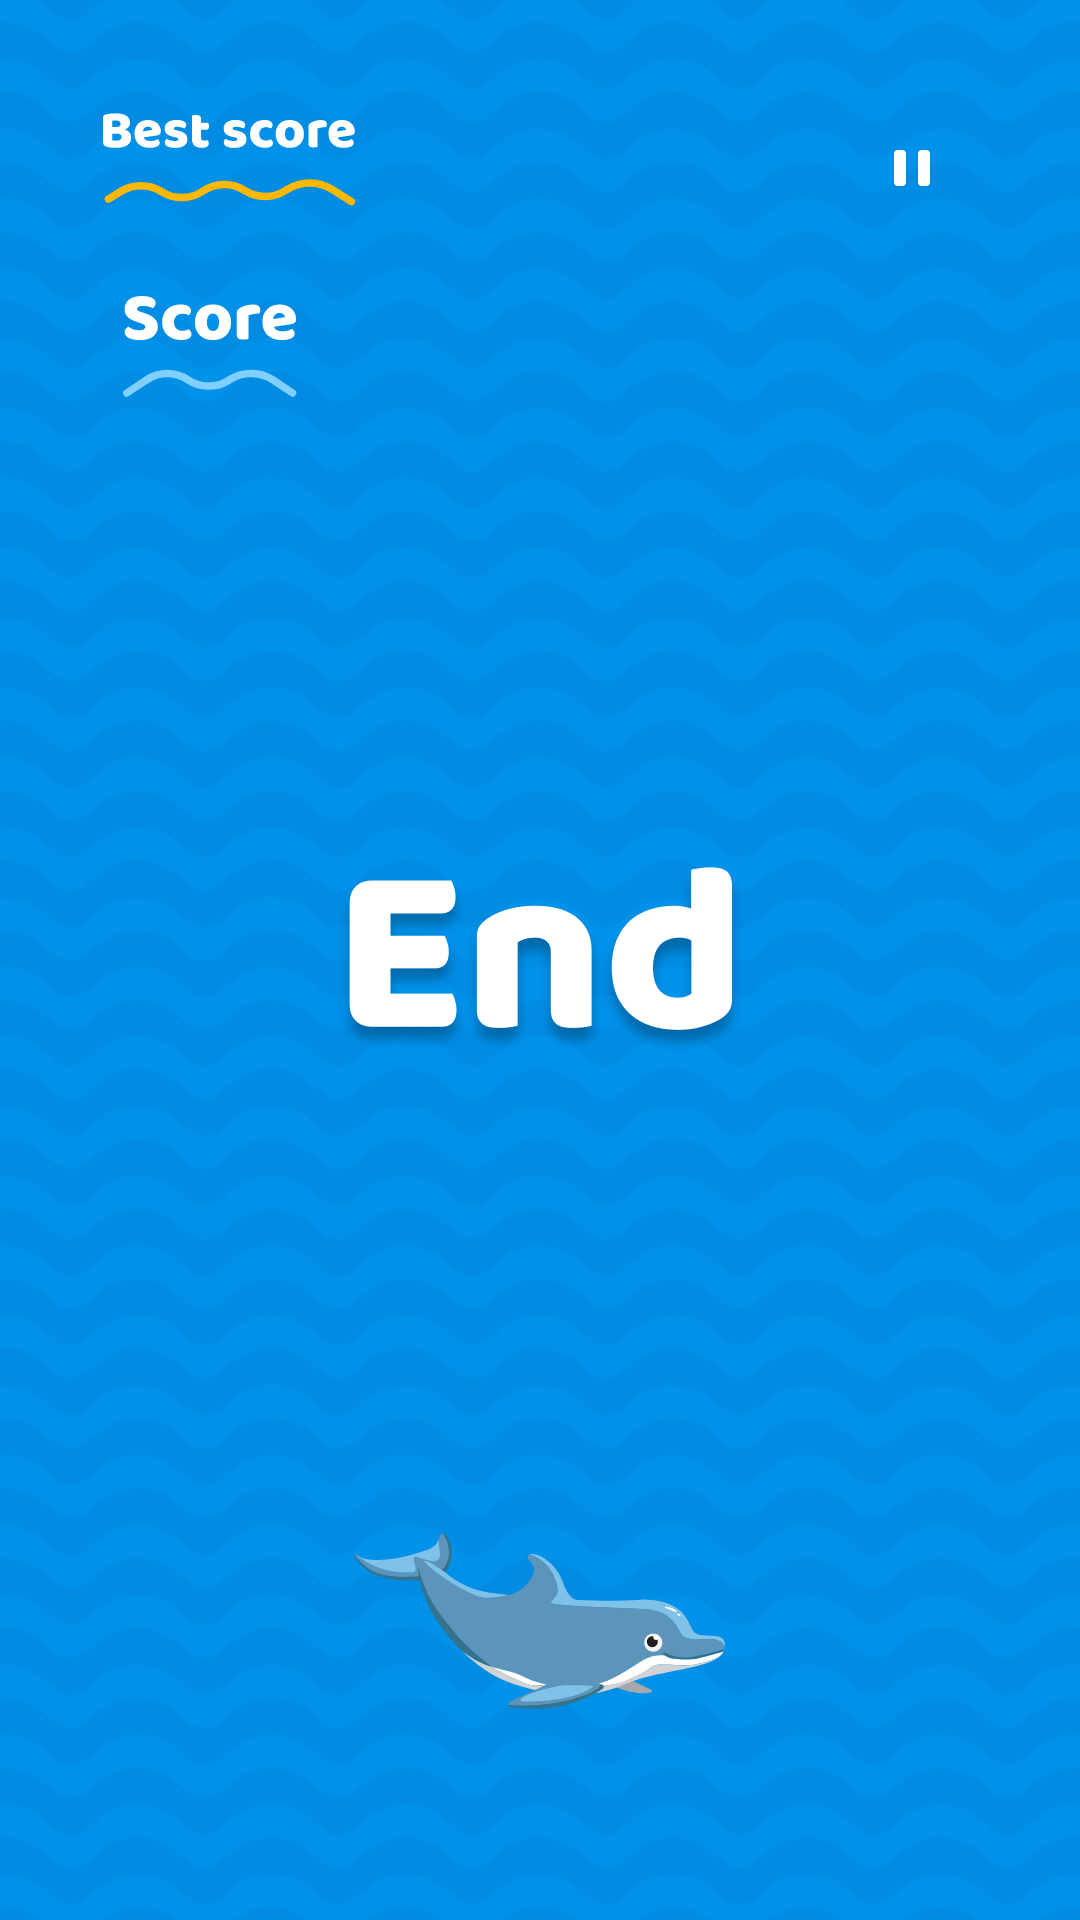

Where icons sit on this 1080 × 1920 app screen, as (x1, y1, x2, y2):
pause: (894, 150, 930, 186)
